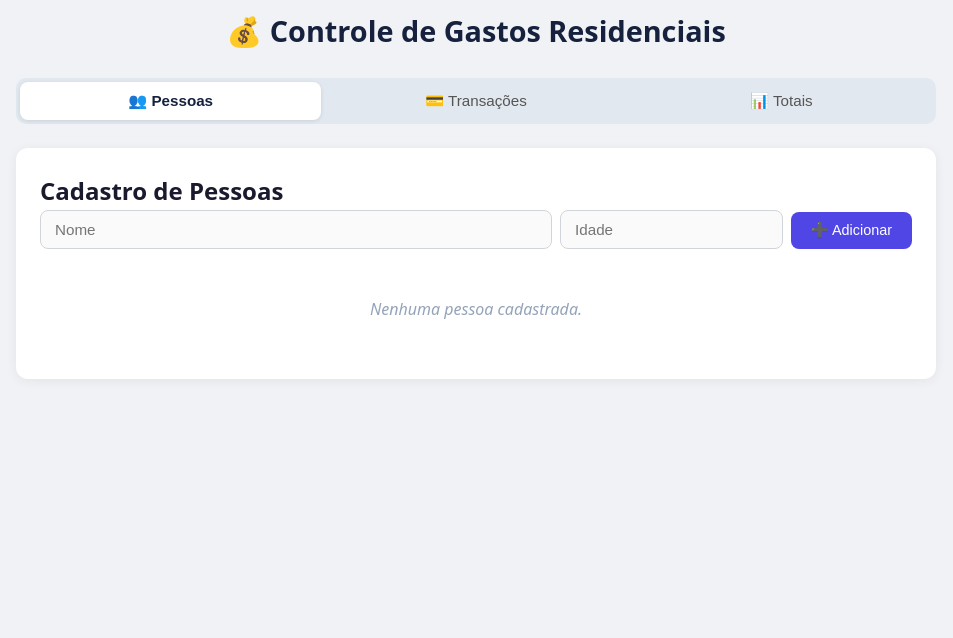
Test: App › should switch to Transactions tab on click
Click the button "💳 Transações" at x=476, y=101, box [325,82,627,120]
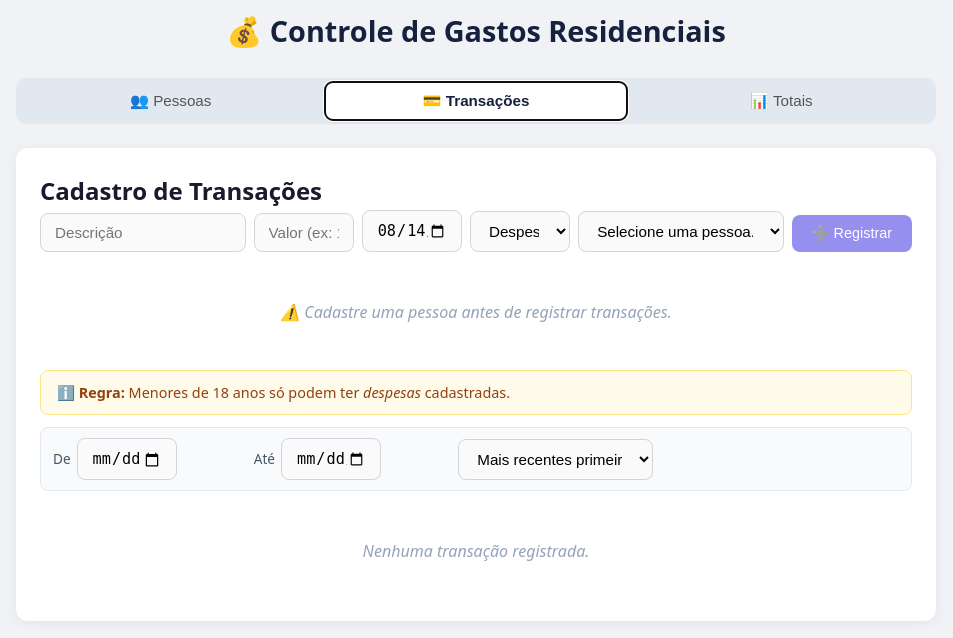
Check: the heading "Cadastro de Transações" is shown, box [40,174,322,207]
